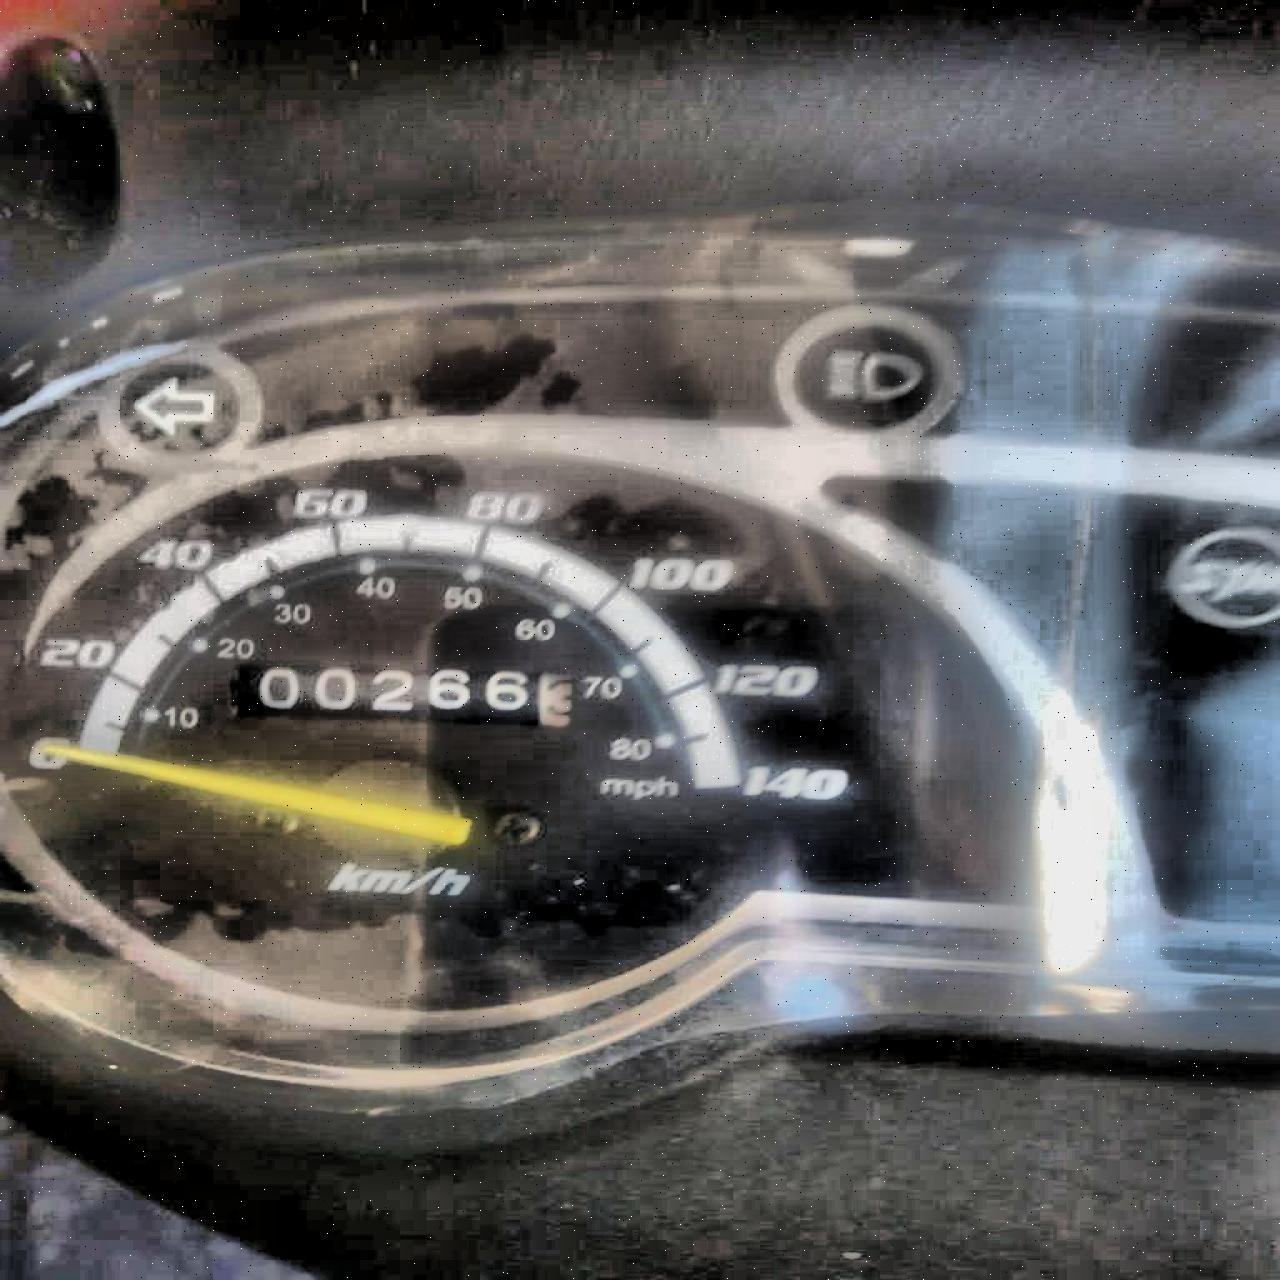0: (313, 666, 355, 709), (257, 666, 298, 709)
2: (369, 668, 414, 710)
3: (545, 678, 577, 715)
6: (483, 668, 526, 710), (424, 667, 468, 708)
odometer: (224, 658, 579, 733)
